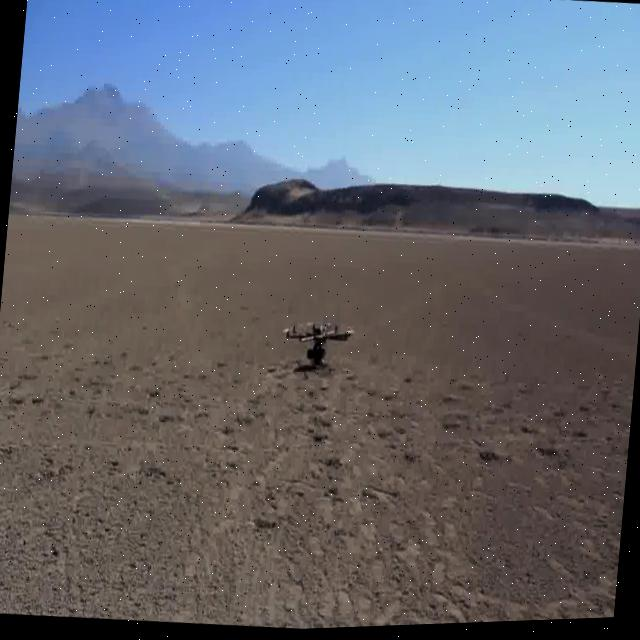drone: (251, 281, 376, 429)
